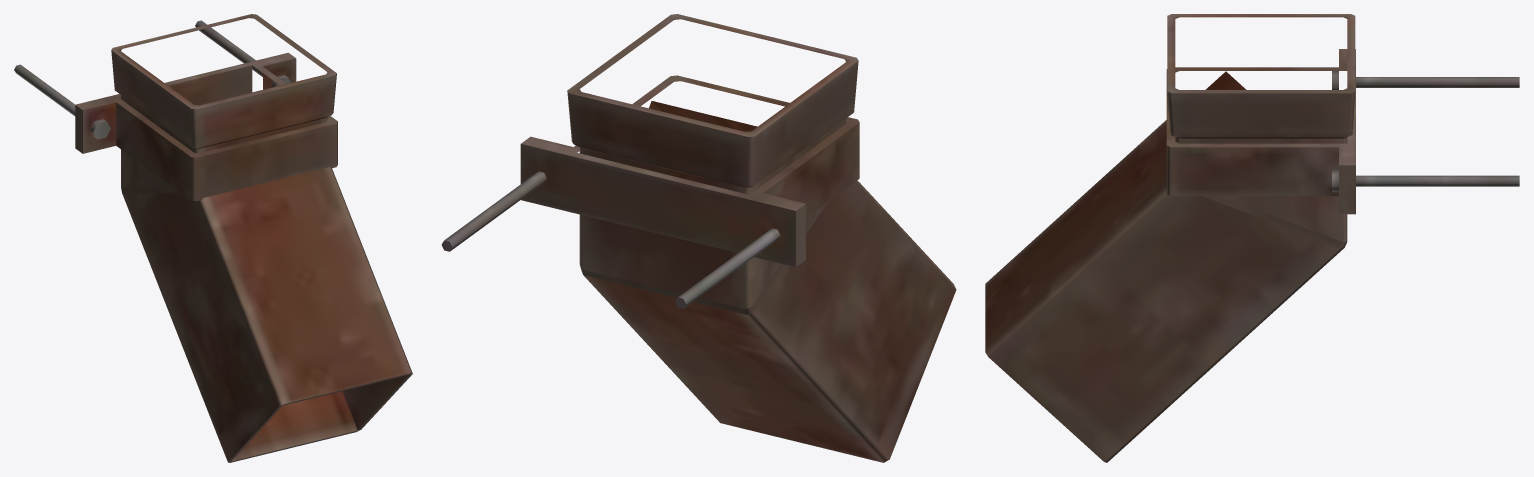
Rendered from gutter_end.glb.
The picture shows the model from 3 angles, left to right: view 1: azimuth 30°, elevation 25°; view 2: azimuth 150°, elevation 25°; view 3: azimuth 270°, elevation 25°; orthographic projection. The views are drawn at different scales.
Visible parts, largest first — view 1: gutter_end, gutter_wall_connector; view 2: gutter_end, gutter_wall_connector; view 3: gutter_end, gutter_wall_connector.
Part boxes in pixels (left/top/right/bottom): gutter_end: left=111, top=14, right=412, bottom=462; gutter_wall_connector: left=14, top=20, right=337, bottom=201; gutter_end: left=567, top=14, right=956, bottom=462; gutter_wall_connector: left=441, top=75, right=859, bottom=308; gutter_end: left=985, top=14, right=1355, bottom=462; gutter_wall_connector: left=1166, top=49, right=1519, bottom=214.
Size of the model in its own units: 0.16 by 0.2403 by 0.3104.
Materials: 1 (1 with a texture image).
